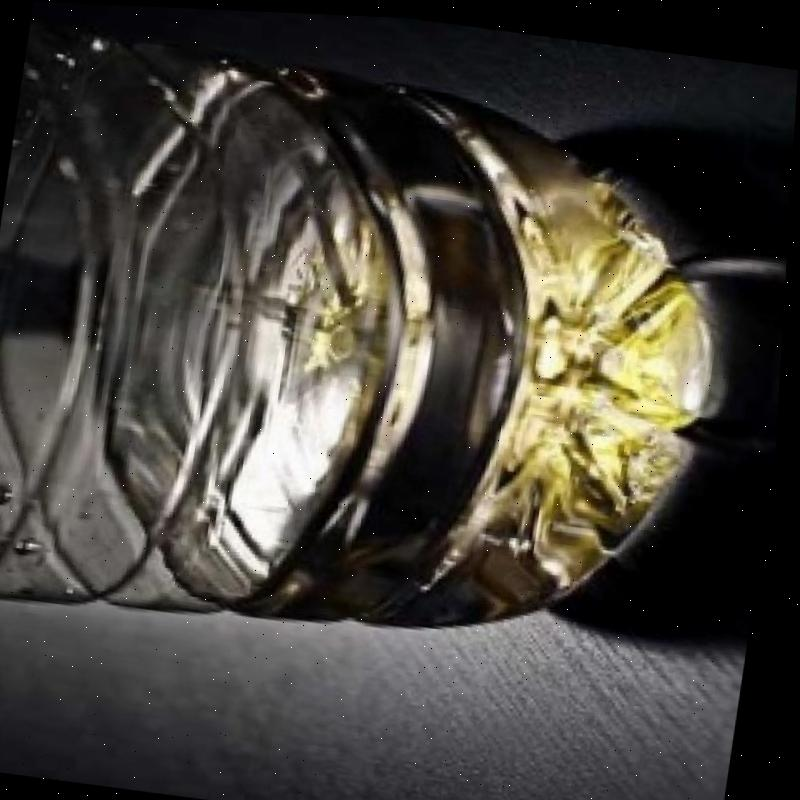botella: (0, 9, 752, 681)
